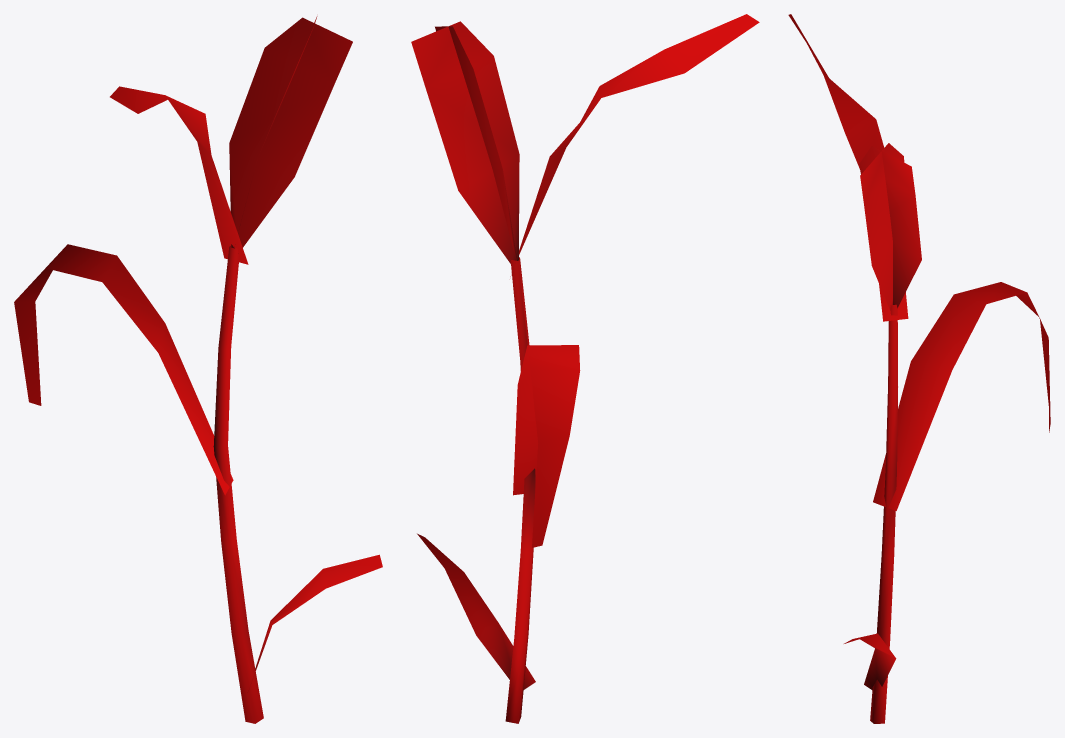
Rendered from SM_BarleyPlant_4.fbx.
3 renders of one model, left to right at view 1: azimuth 30°, elevation 25°; view 2: azimuth 150°, elevation 25°; view 3: azimuth 270°, elevation 25°, orthographic. The views are drawn at different scales.
Parts seen in each view (by area): view 1: SM_BarleyPlant_4; view 2: SM_BarleyPlant_4; view 3: SM_BarleyPlant_4.
Boxes of the visible parts, x1=… form: SM_BarleyPlant_4: x1=14, y1=16, x2=382, y2=723; SM_BarleyPlant_4: x1=411, y1=14, x2=759, y2=723; SM_BarleyPlant_4: x1=788, y1=14, x2=1050, y2=723.
Size of the model in its own units: 0.4589 by 1.02 by 0.386.
